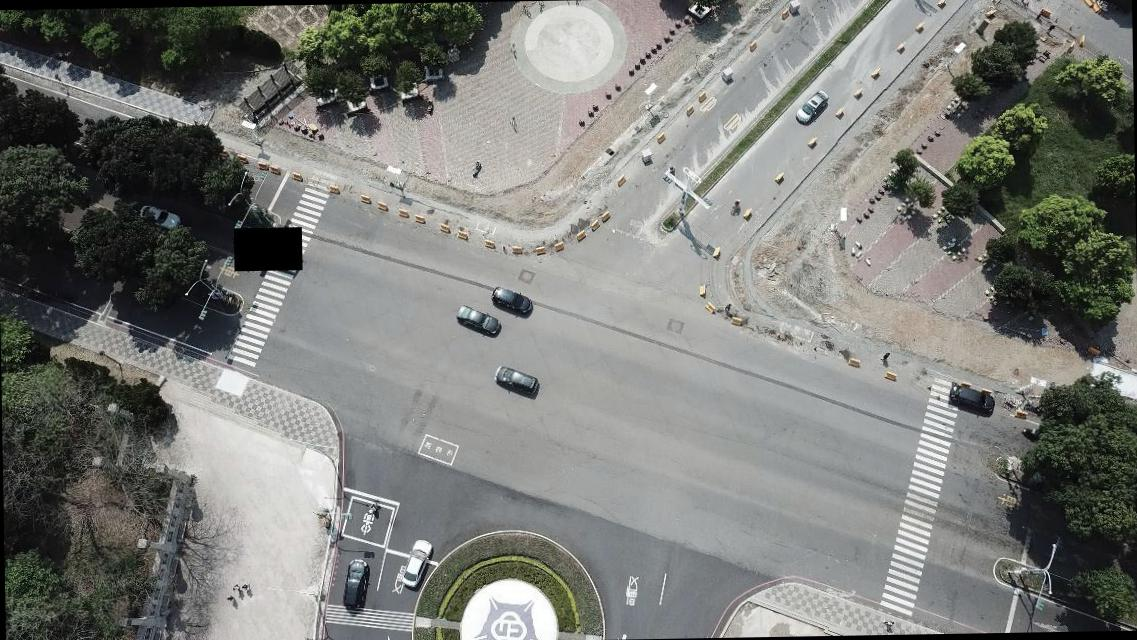vehicle: (401, 538, 434, 587), (456, 304, 502, 338), (342, 558, 370, 610), (948, 382, 996, 412), (494, 364, 538, 396), (490, 284, 533, 316), (795, 89, 829, 124), (139, 202, 181, 230)
